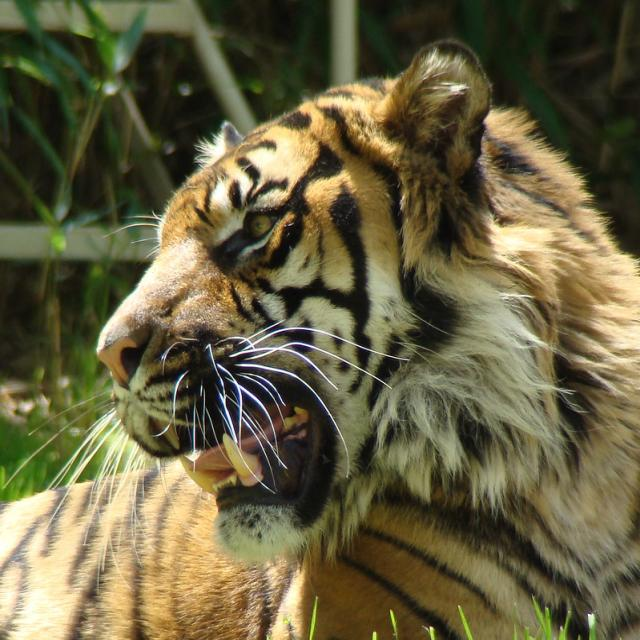Tiger: (2, 37, 639, 639)
